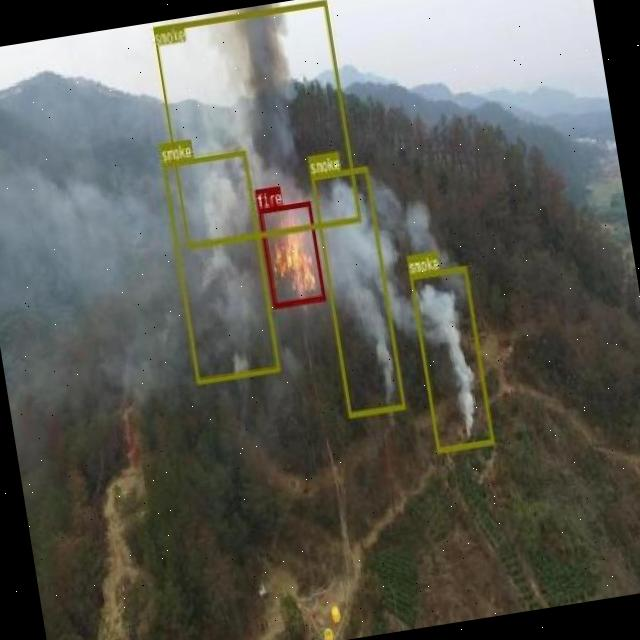fire: (257, 199, 326, 308)
smoke: (151, 0, 361, 248), (162, 150, 280, 383), (310, 166, 406, 417), (409, 266, 495, 454)
